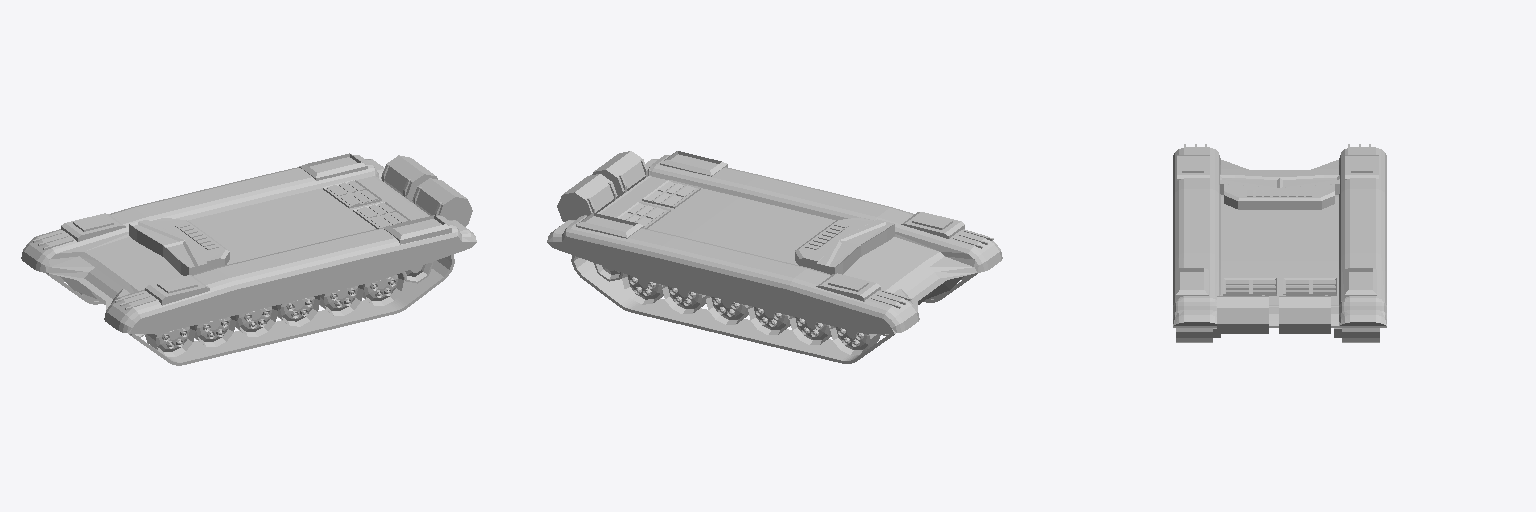
The model's file is TankBody.obj.
The picture shows the model from 3 angles: view 1: azimuth 30°, elevation 25°; view 2: azimuth 150°, elevation 25°; view 3: azimuth 270°, elevation 25°; orthographic projection.
Parts seen in each view (by area): view 1: Line010, Line020, Line02, Circle45, Circle46, Rectangl12, Rectangl13, Rectangl15, Rectangl14, Circle080, Circle29, Circle22 (+5 smaller); view 2: Line010, Line020, Line02, Circle46, Circle45, Rectangl15, Rectangl13, Rectangl14, Rectangl12, Circle080, Circle29, Circle22 (+4 smaller); view 3: Line010, Line02, Circle46, Circle45, Line020, Rectangl12, Rectangl14, Rectangl15, Rectangl13, Rectangle6, Rectangle5.
Boxes of the visible parts, x1,y1,x2,y2 form: Line010: [21, 155, 476, 334]; Line020: [46, 254, 454, 365]; Line02: [129, 218, 229, 275]; Circle45: [412, 178, 472, 226]; Circle46: [381, 155, 437, 202]; Rectangl12: [384, 215, 451, 244]; Rectangl13: [145, 275, 209, 305]; Rectangl15: [61, 213, 125, 241]; Rectangl14: [299, 153, 367, 180]; Circle080: [78, 292, 195, 356]; Circle29: [319, 285, 363, 315]; Circle22: [277, 295, 320, 326]; Line010: [547, 155, 1002, 335]; Line020: [571, 255, 977, 363]; Line02: [795, 217, 894, 274]; Circle46: [557, 174, 617, 221]; Circle45: [592, 151, 645, 197]; Rectangl15: [816, 273, 880, 301]; Rectangl13: [901, 212, 964, 238]; Rectangl14: [576, 213, 643, 238]; Rectangl12: [660, 151, 727, 176]; Circle080: [830, 292, 945, 354]; Circle29: [662, 285, 706, 313]; Circle22: [706, 296, 748, 324]; Line010: [1173, 147, 1386, 327]; Line02: [1220, 175, 1339, 209]; Circle46: [1279, 296, 1330, 333]; Circle45: [1217, 296, 1268, 333]; Line020: [1176, 328, 1379, 342]; Rectangl12: [1176, 268, 1208, 298]; Rectangl14: [1344, 268, 1376, 297]; Rectangl15: [1345, 155, 1378, 179]; Rectangl13: [1177, 155, 1209, 180]; Rectangle6: [1286, 280, 1335, 293]; Rectangle5: [1226, 280, 1275, 293].
Bounding box in the file's own units: 284 × 60.08 × 142.